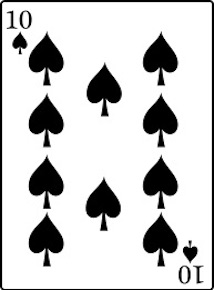TenOfSpades: (1, 1, 214, 289)
